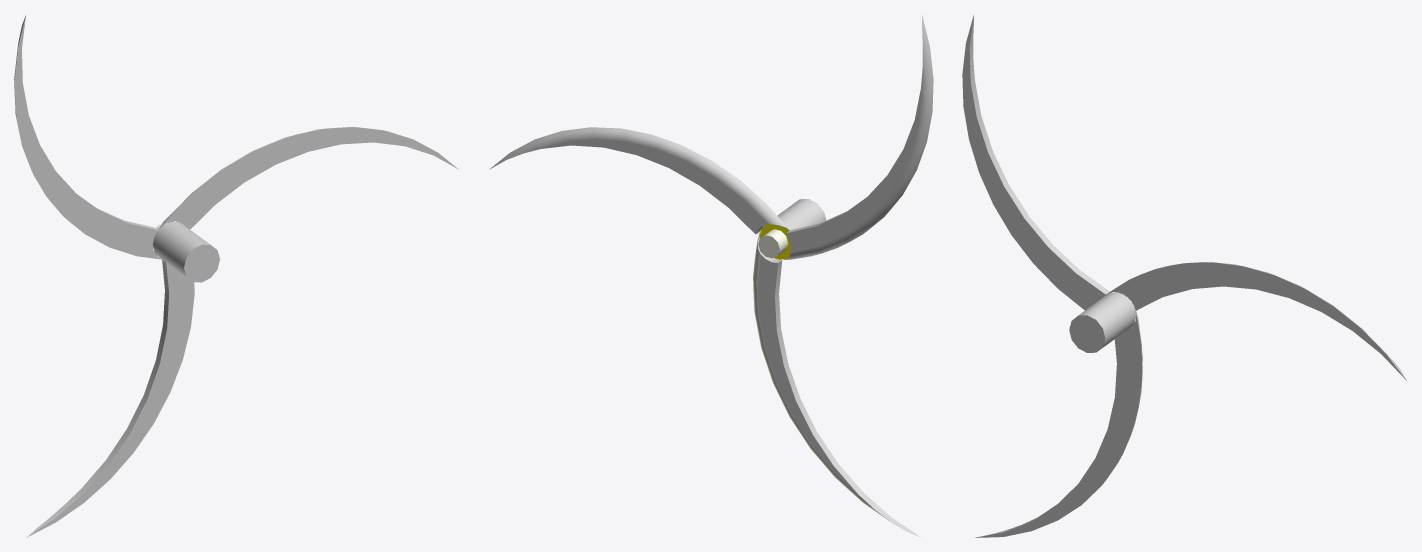
File: rotBlade.FBX
3 views of the same model, side by side, from view 1: azimuth 30°, elevation 25°; view 2: azimuth 150°, elevation 25°; view 3: azimuth 330°, elevation 25° (orthographic).
Visible parts, largest first — view 1: rotblade; view 2: rotblade; view 3: rotblade.
Part boxes in pixels (x1,y1,x2,y2): rotblade: [14, 15, 458, 537]; rotblade: [489, 15, 933, 537]; rotblade: [962, 15, 1406, 537].
Bounding box in the file's own units: 616 × 693 × 95.
